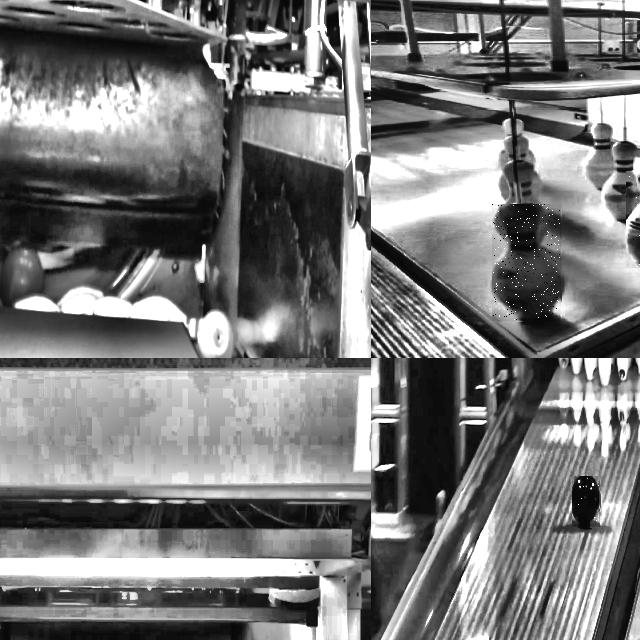bowling-ball: (572, 476, 600, 526)
bowling-pins: (492, 205, 560, 320), (602, 142, 640, 222), (585, 123, 613, 190)
